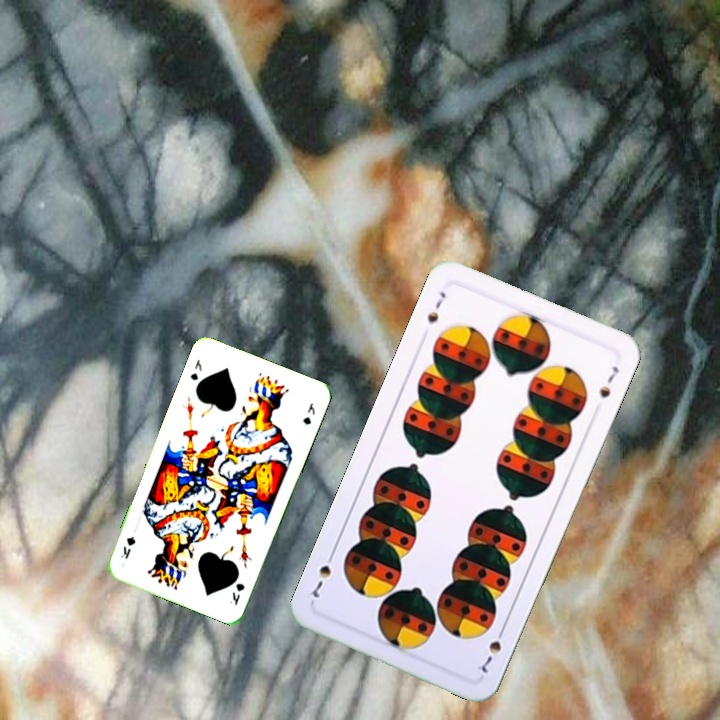GK: (226, 579, 247, 607), (186, 355, 204, 383)
S7: (473, 622, 508, 676), (423, 287, 449, 326)
